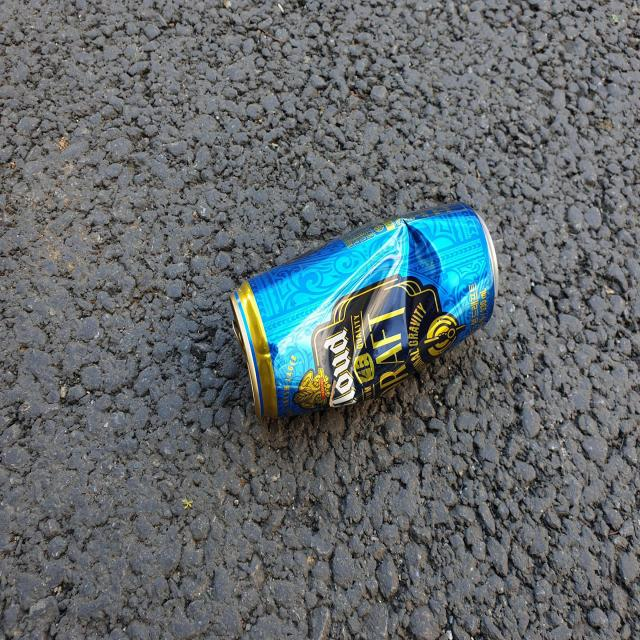can: (230, 202, 499, 418)
